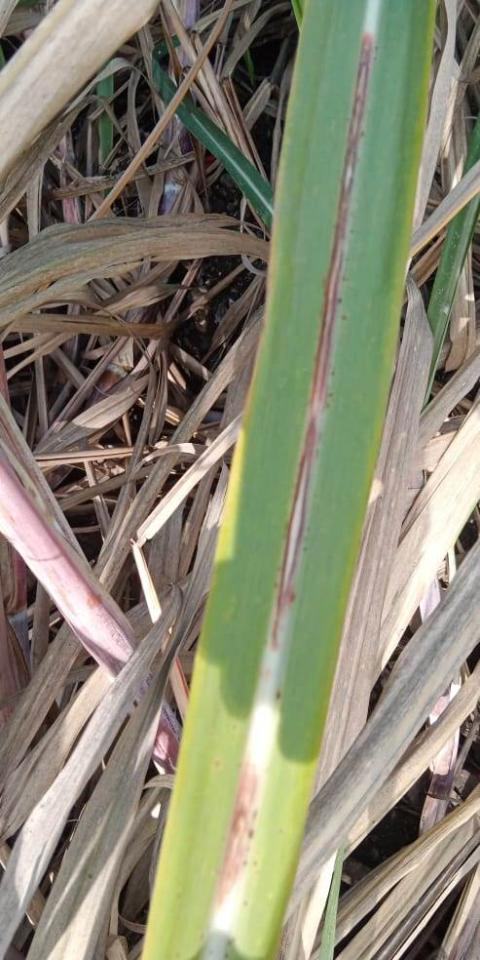RedRot: (271, 30, 375, 655)
